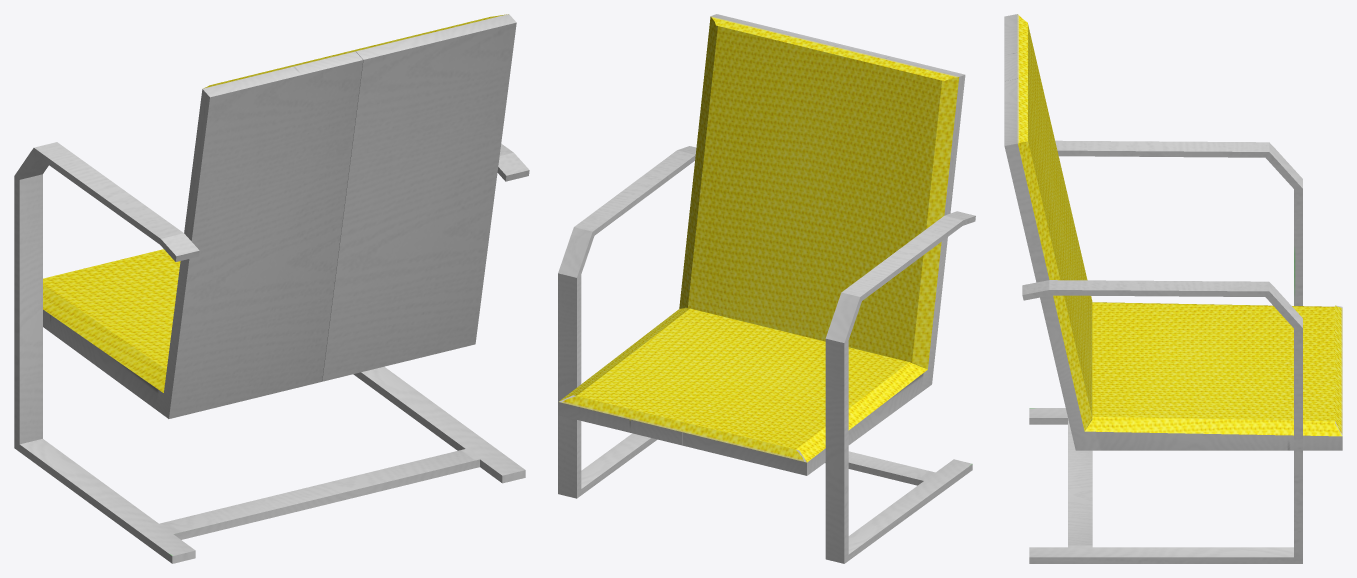
Rendered from chair.FBX.
3 renders of one model, left to right at view 1: azimuth 30°, elevation 25°; view 2: azimuth 150°, elevation 25°; view 3: azimuth 270°, elevation 25°, orthographic. The views are drawn at different scales.
Visible parts, largest first — view 1: Box001; view 2: Box001; view 3: Box001.
Boxes of the visible parts, x1,y1,x2,y2 form: Box001: (14, 14, 529, 563); Box001: (558, 14, 975, 563); Box001: (1004, 14, 1342, 563).
Size of the model in its own units: 80.27 by 103 by 76.87.
